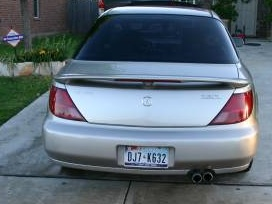acura: (41, 1, 262, 186)
